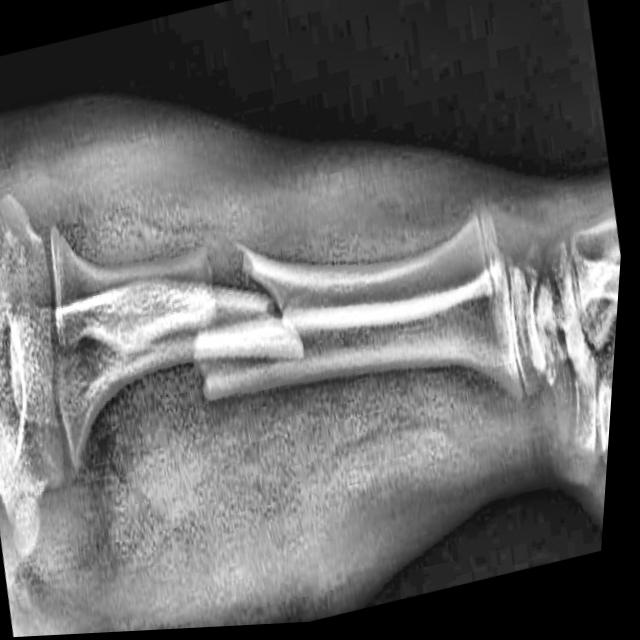fracture: (170, 221, 331, 416)
